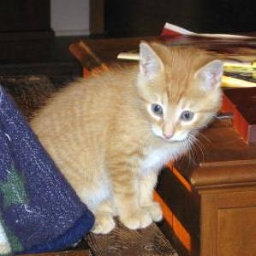cat: (29, 36, 225, 232)
